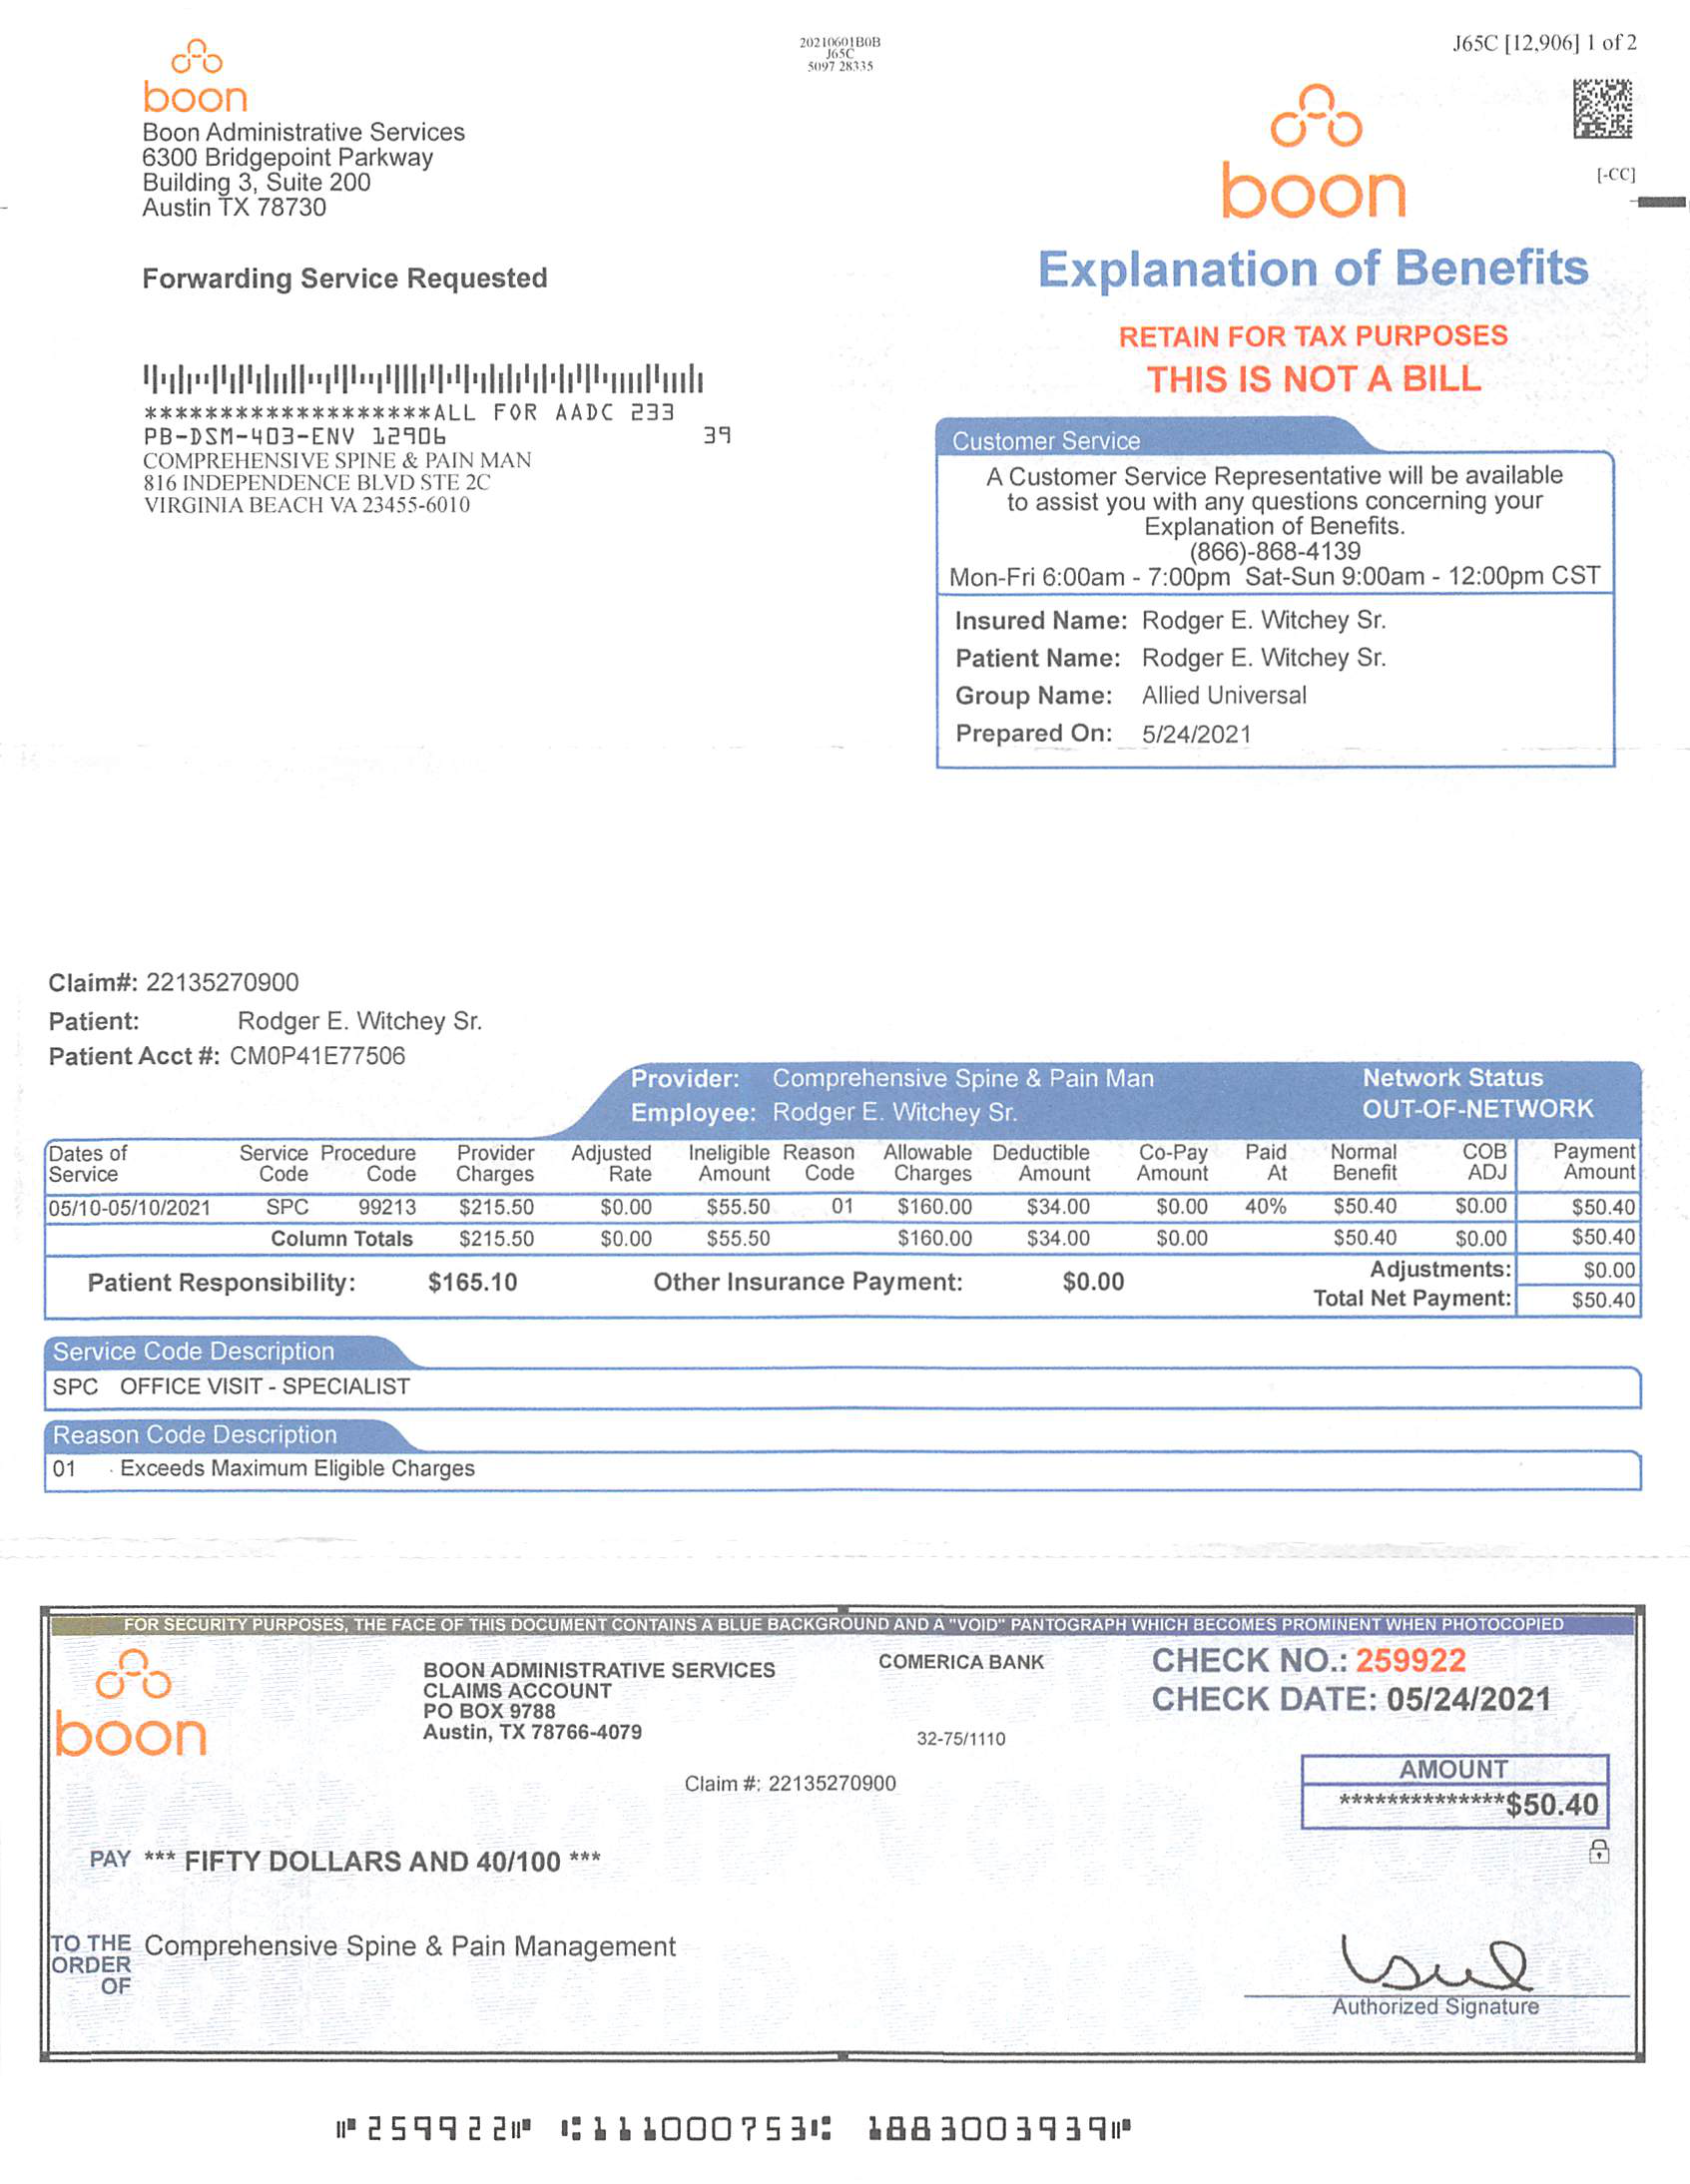data: (929, 401, 1633, 780), (21, 964, 512, 1085), (621, 1058, 1178, 1133)
table: (35, 1117, 1649, 1328)
